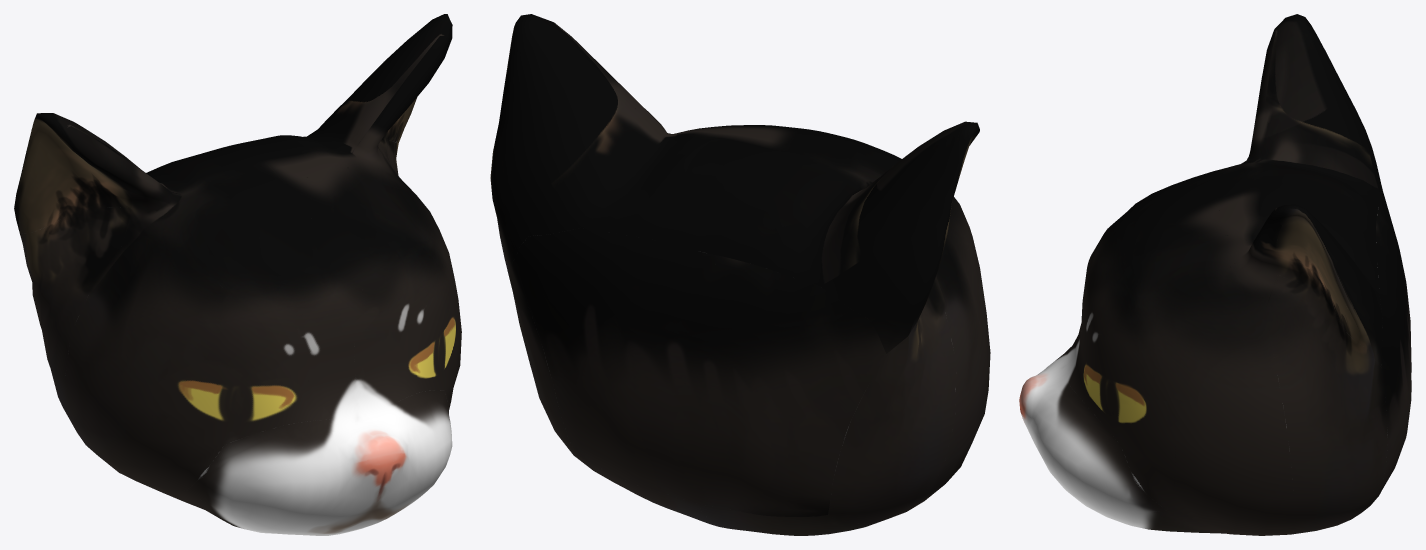
Rendered from catLOD.fbx.
3 renders of one model, left to right at view 1: azimuth 30°, elevation 25°; view 2: azimuth 150°, elevation 25°; view 3: azimuth 270°, elevation 25°, orthographic. The views are drawn at different scales.
Parts seen in each view (by area): view 1: lowPolyCat_LOD0; view 2: lowPolyCat_LOD0; view 3: lowPolyCat_LOD0.
Boxes of the visible parts, box(x1,y1,x2,y2) form: lowPolyCat_LOD0: box(14, 14, 461, 535); lowPolyCat_LOD0: box(490, 14, 990, 535); lowPolyCat_LOD0: box(1019, 14, 1411, 535).
Size of what is drawn, in the model's own units: 13.91 by 12.9 by 11.78.
Materials: 1 (1 with a texture image).
